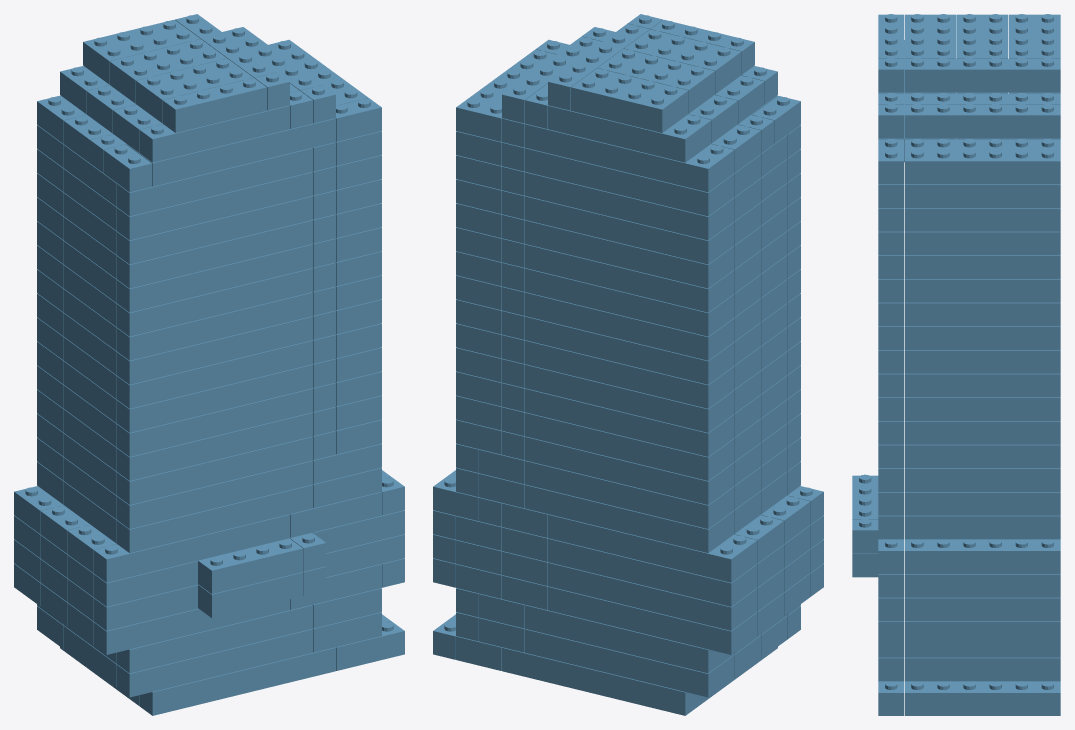
The model's file is 163_guitar_L3.glb.
3 views of the same model, side by side, from view 1: azimuth 30°, elevation 25°; view 2: azimuth 150°, elevation 25°; view 3: azimuth 270°, elevation 25° (orthographic).
Bounding box in the file's own units: 12.98 × 25.13 × 7.98.
